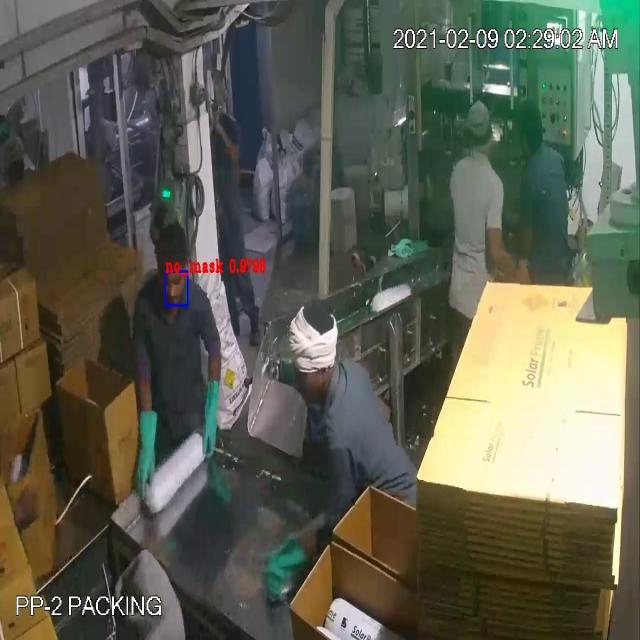gloves: (254, 527, 322, 607), (118, 387, 164, 501), (197, 362, 221, 468)
no-gloves: (9, 467, 55, 536), (201, 104, 239, 168), (489, 222, 523, 278)
